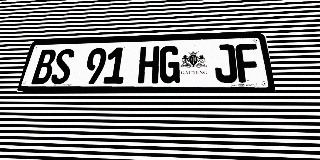1: (103, 47, 127, 84)
9: (83, 48, 108, 84)
B: (31, 49, 57, 84)
F: (235, 43, 262, 83)
G: (159, 46, 180, 83)
H: (137, 46, 160, 83)
J: (213, 44, 238, 83)
S: (50, 49, 75, 84)
